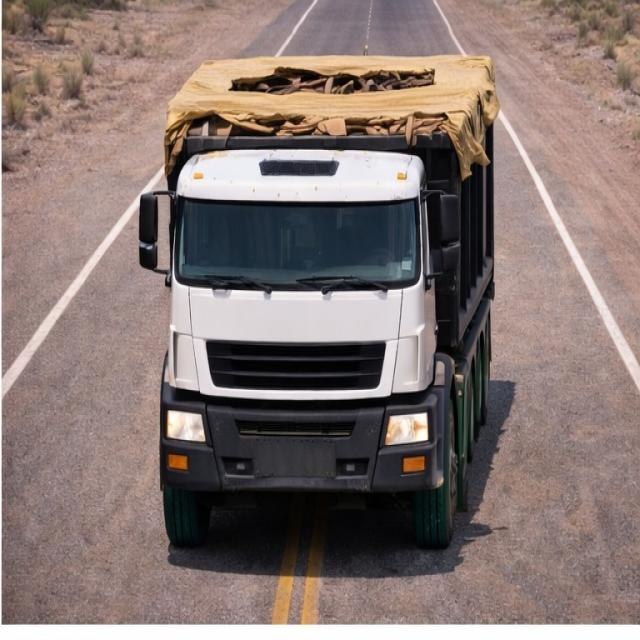trailer: (165, 56, 502, 151)
truck: (135, 50, 508, 540)
